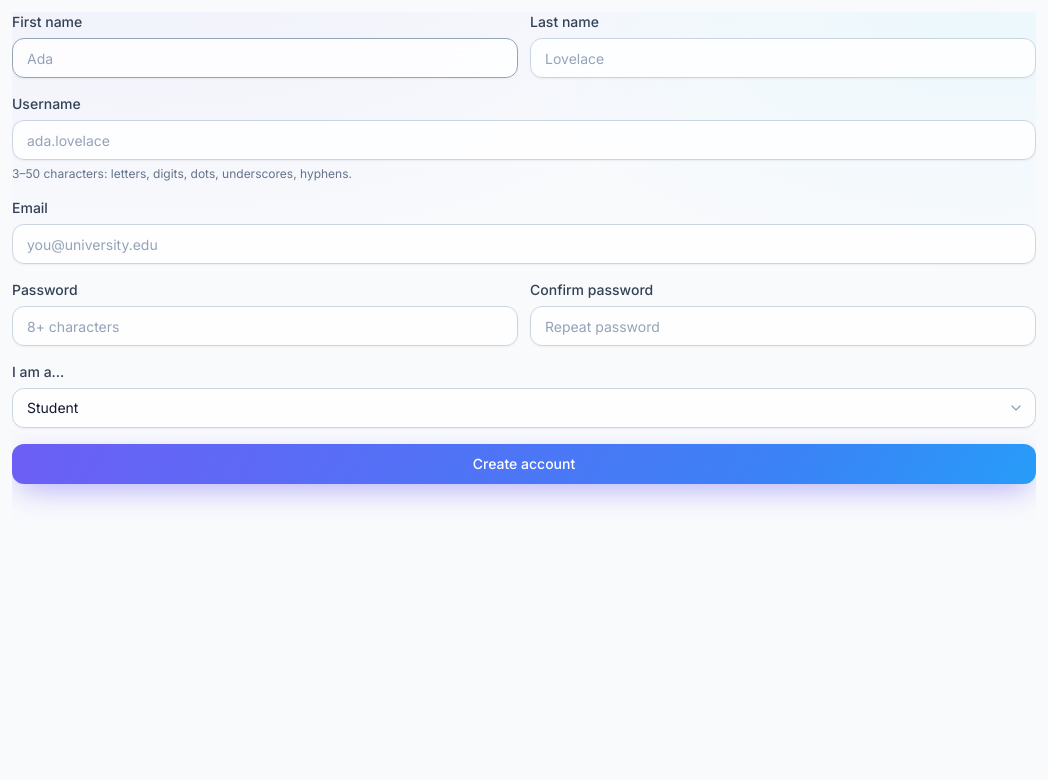
RegisterForm › reports validation errors for invalid passwords
Click the button "Create account" at {"x": 524, "y": 464}, box [12, 444, 1036, 484]
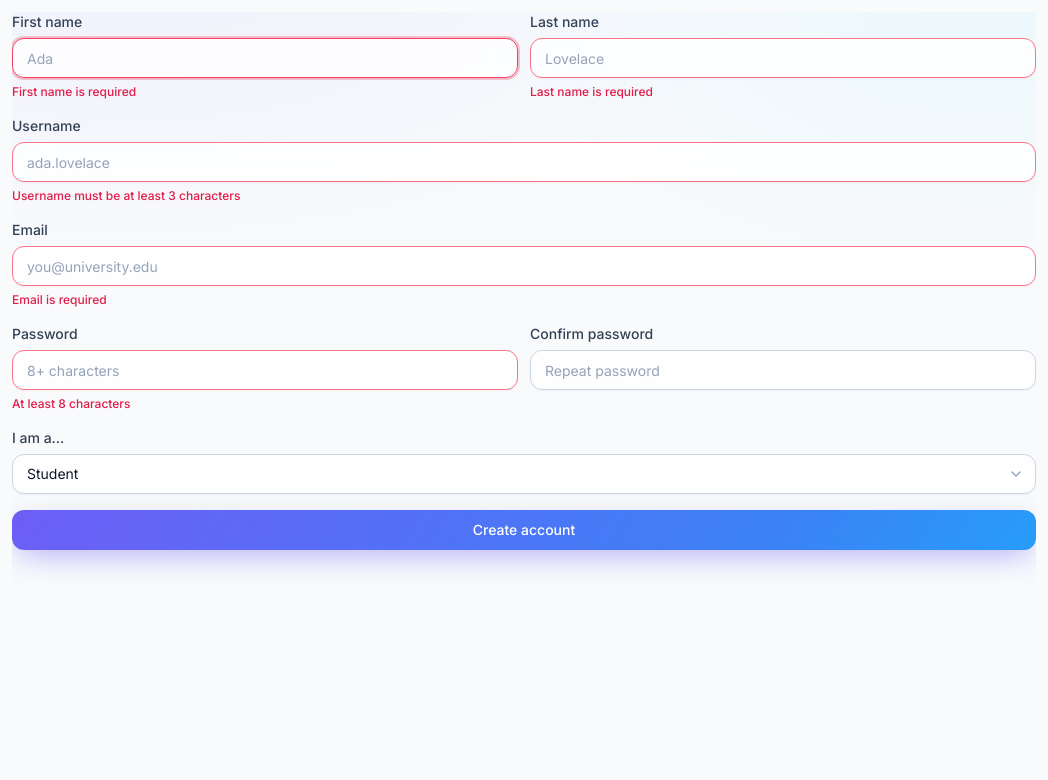
Result: the text "First name is required" is shown at [12, 84, 136, 99]
Result: the text "Username must be at least 3 characters" is shown at [12, 188, 240, 203]
Type "weak" into the password field labelled "Password" at {"x": 265, "y": 370}, box [12, 350, 518, 390]
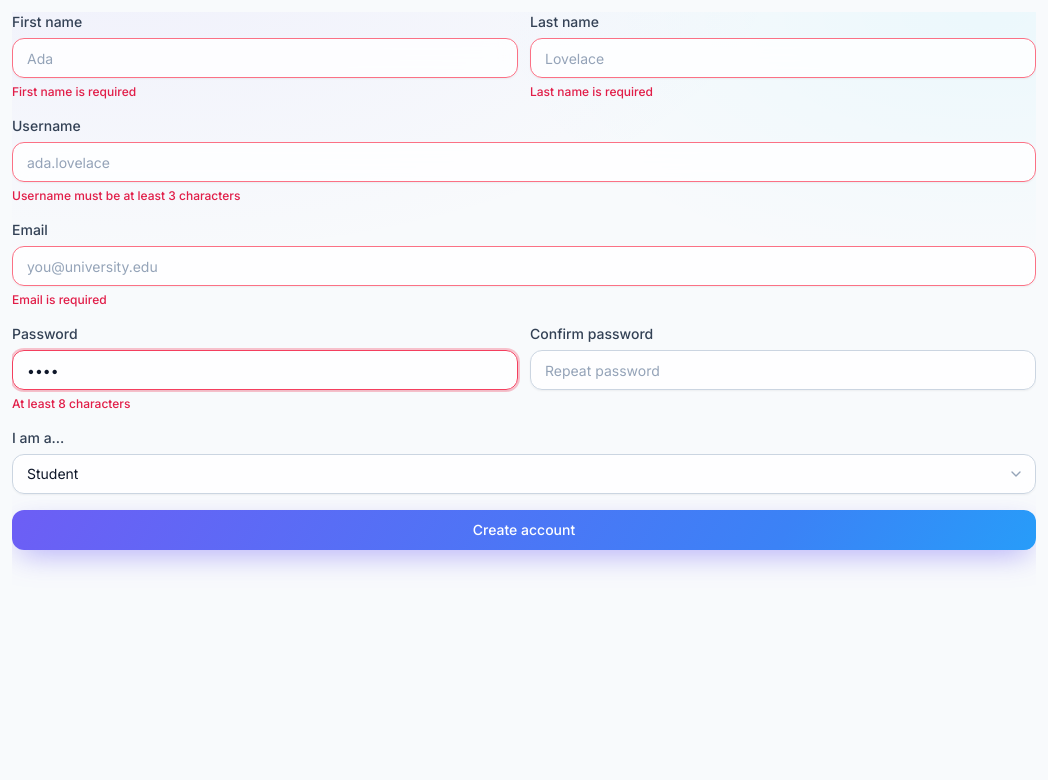
Type "weak2" into the password field labelled "Confirm password" at {"x": 783, "y": 370}, box [530, 350, 1036, 390]
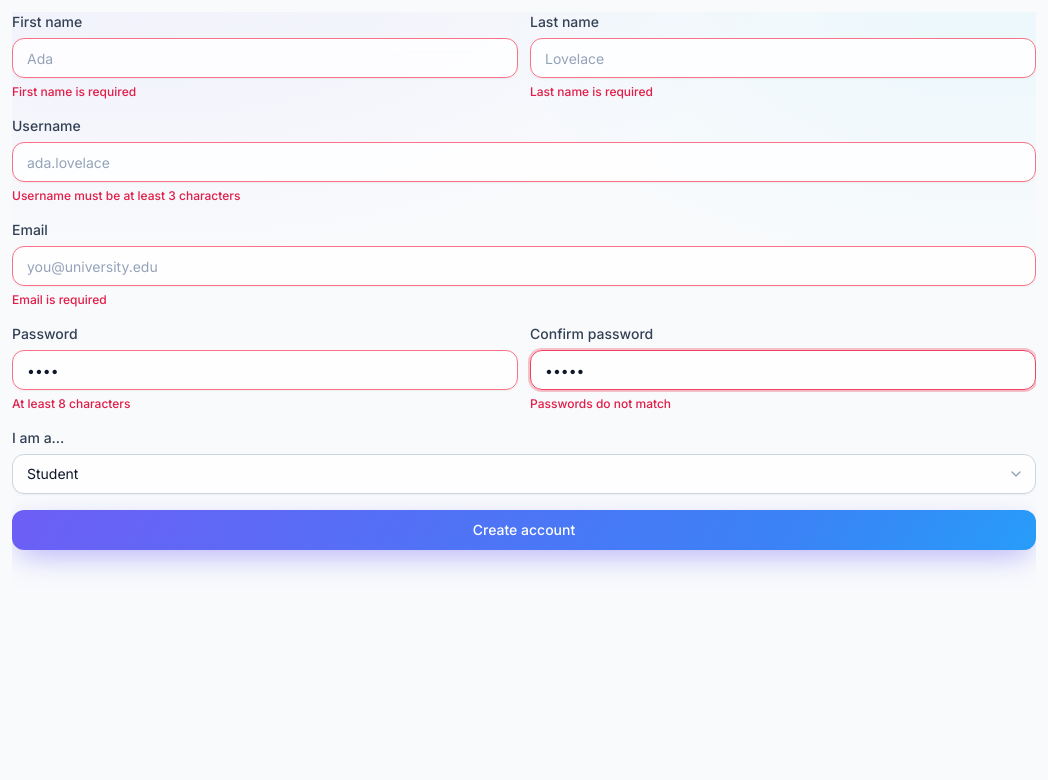
Result: the text "At least 8 characters" is shown at [12, 396, 130, 411]
Result: the text "Passwords do not match" is shown at [530, 396, 671, 411]
